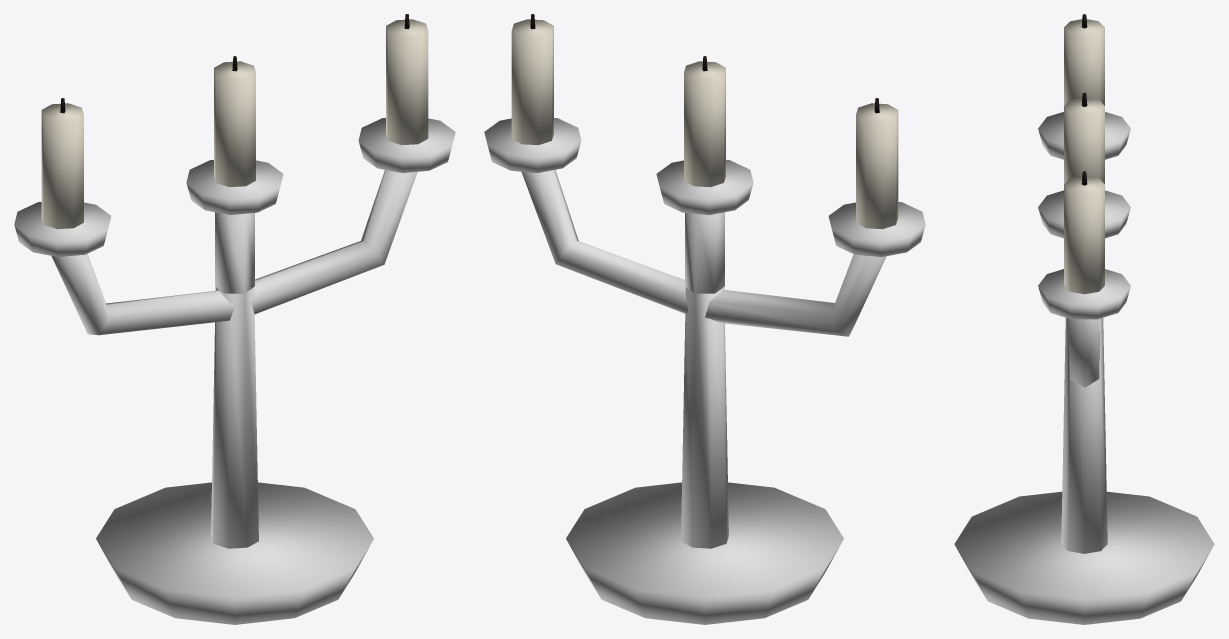
File: wooden_candelabra_v0.glb
3 views of the same model, side by side, from view 1: azimuth 30°, elevation 25°; view 2: azimuth 150°, elevation 25°; view 3: azimuth 270°, elevation 25° (orthographic). The views are drawn at different scales.
Parts seen in each view (by area): view 1: wooden_candelabra_v0; view 2: wooden_candelabra_v0; view 3: wooden_candelabra_v0.
Part boxes in pixels (x1,y1,x2,y2): wooden_candelabra_v0: [14, 14, 455, 624]; wooden_candelabra_v0: [484, 14, 925, 624]; wooden_candelabra_v0: [954, 14, 1214, 624].
Size of the model in its own units: 0.4951 by 0.575 by 0.28.
